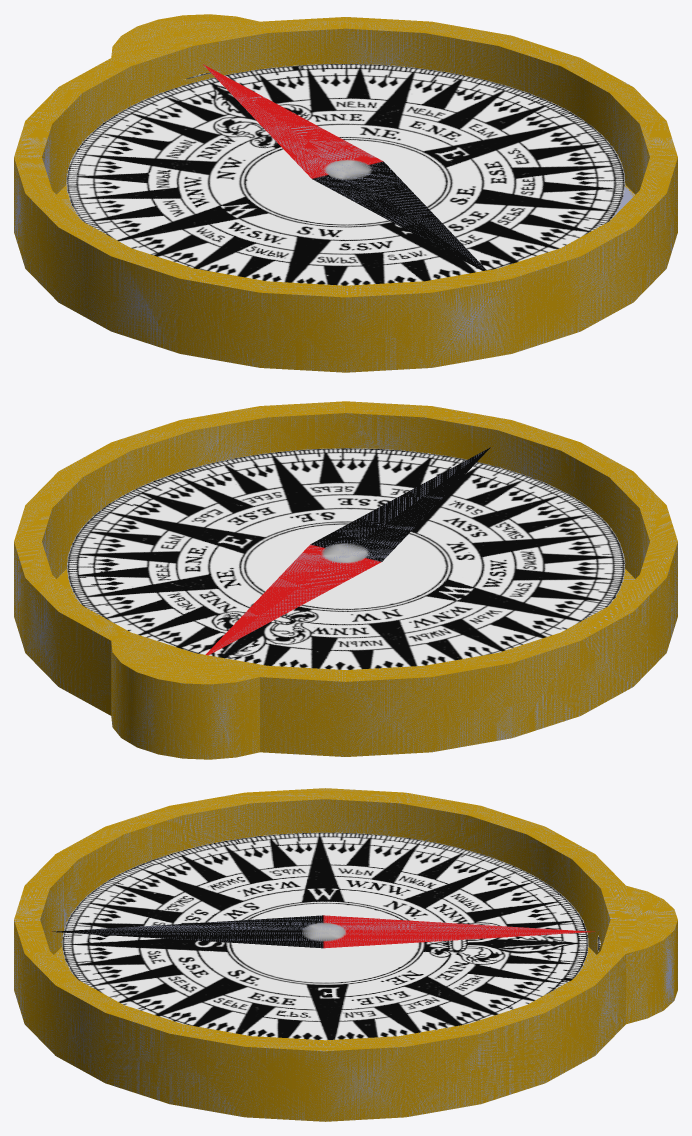
File: compass.fbx
3 renders of one model, top to bottom at view 1: azimuth 30°, elevation 25°; view 2: azimuth 150°, elevation 25°; view 3: azimuth 270°, elevation 25°, orthographic. The views are drawn at different scales.
Visible parts, largest first — view 1: Compass_Body1, Compass_Card1, Compass_Needle1; view 2: Compass_Body1, Compass_Card1, Compass_Needle1; view 3: Compass_Body1, Compass_Card1, Compass_Needle1.
Part boxes in pixels (box(x1,y1,x2,y2)): Compass_Body1: box(14, 14, 677, 372); Compass_Card1: box(66, 63, 625, 285); Compass_Needle1: box(203, 64, 486, 270); Compass_Body1: box(14, 401, 677, 759); Compass_Card1: box(67, 448, 625, 669); Compass_Needle1: box(205, 447, 490, 655); Compass_Body1: box(14, 788, 677, 1121); Compass_Card1: box(62, 832, 600, 1040); Compass_Needle1: box(51, 915, 594, 948).
Bounding box in the file's own units: 9.45 × 1.18 × 10.08.
4 materials, 2 textured.
